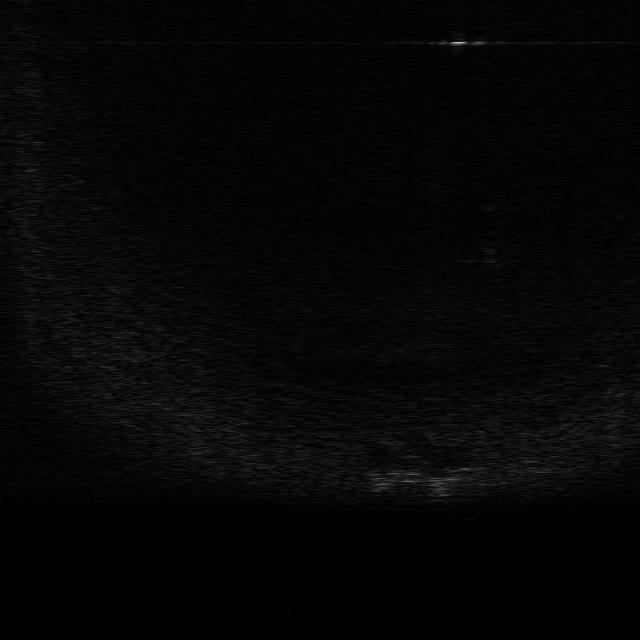plane: (362, 450, 473, 500)
